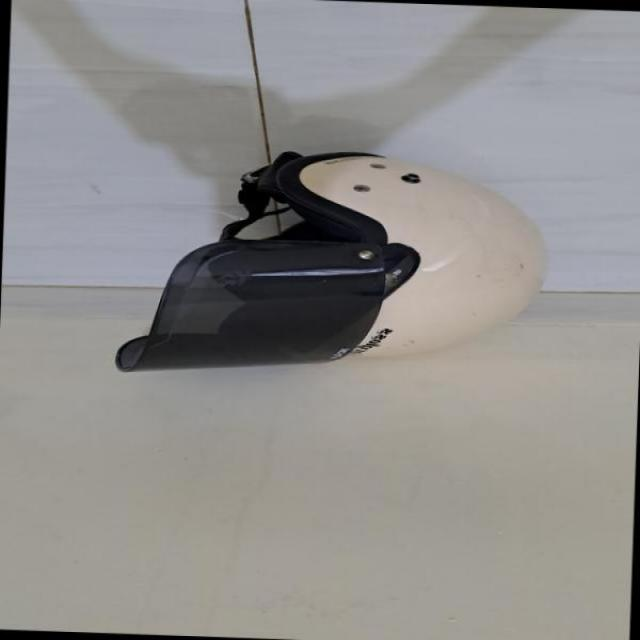Helmet: (103, 135, 559, 395)
